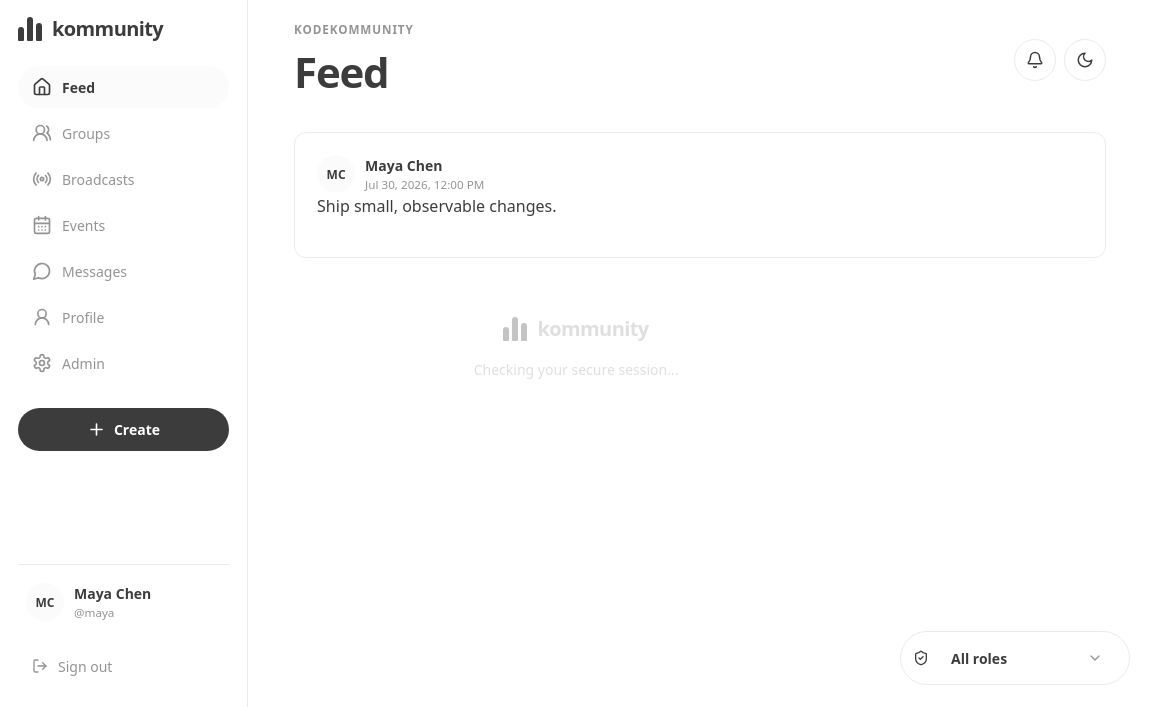
Scenario: authenticated social application › reconciles navigation when the active root revokes their own root role
Expected: the text "Ship small, observable changes." is shown, x1=317 y1=195 x2=556 y2=217
Click the button "Admin" at (124, 363), box x1=18 y1=342 x2=229 y2=384
(page scrolled)
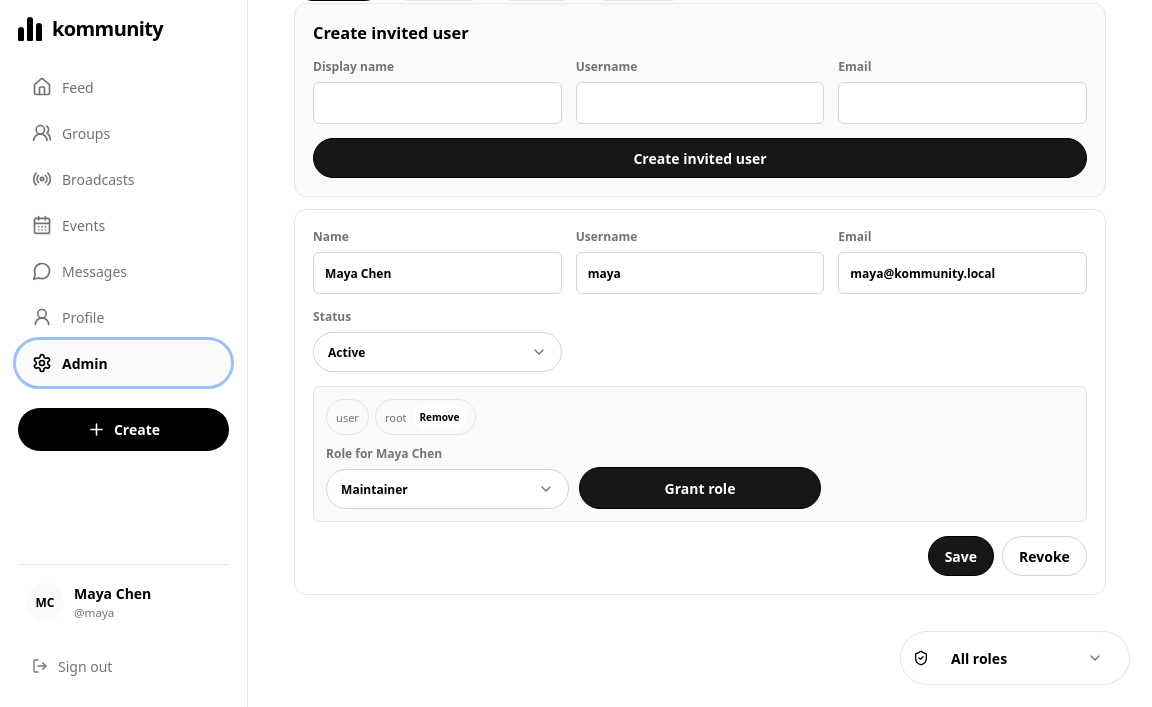
Click the button with aria-label "revoke root from maya chen" at (439, 417), box x1=412 y1=405 x2=466 y2=429
(page scrolled)
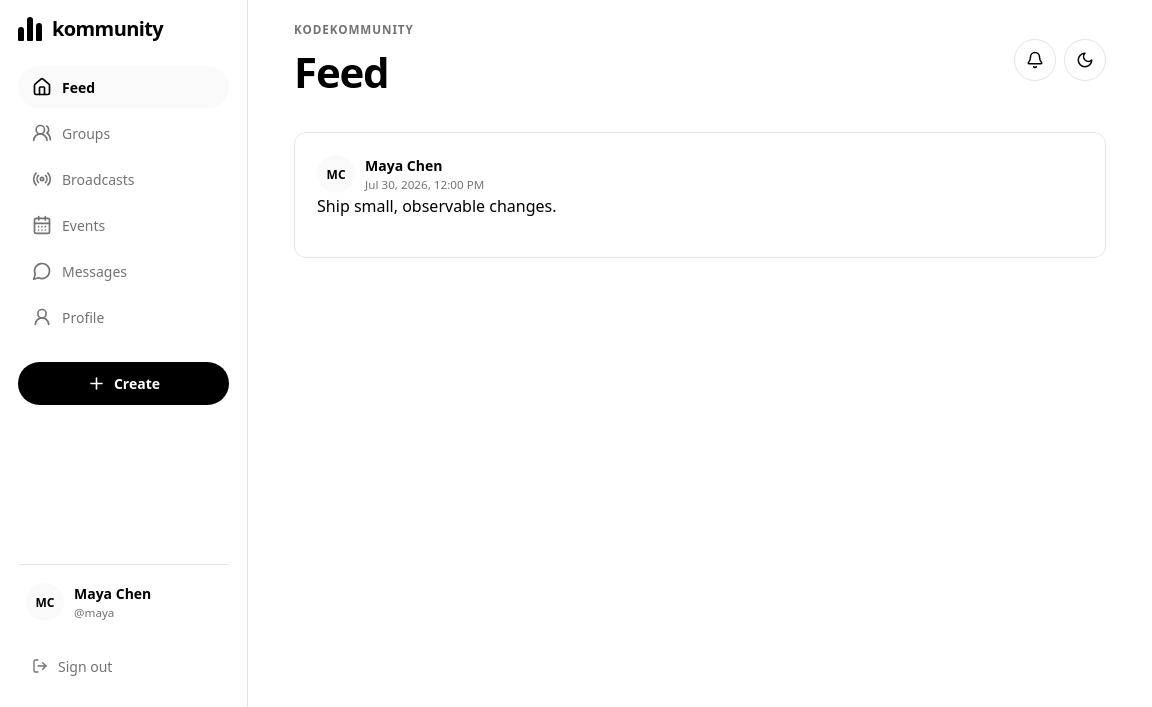
Expected: the button "Admin" is gone
